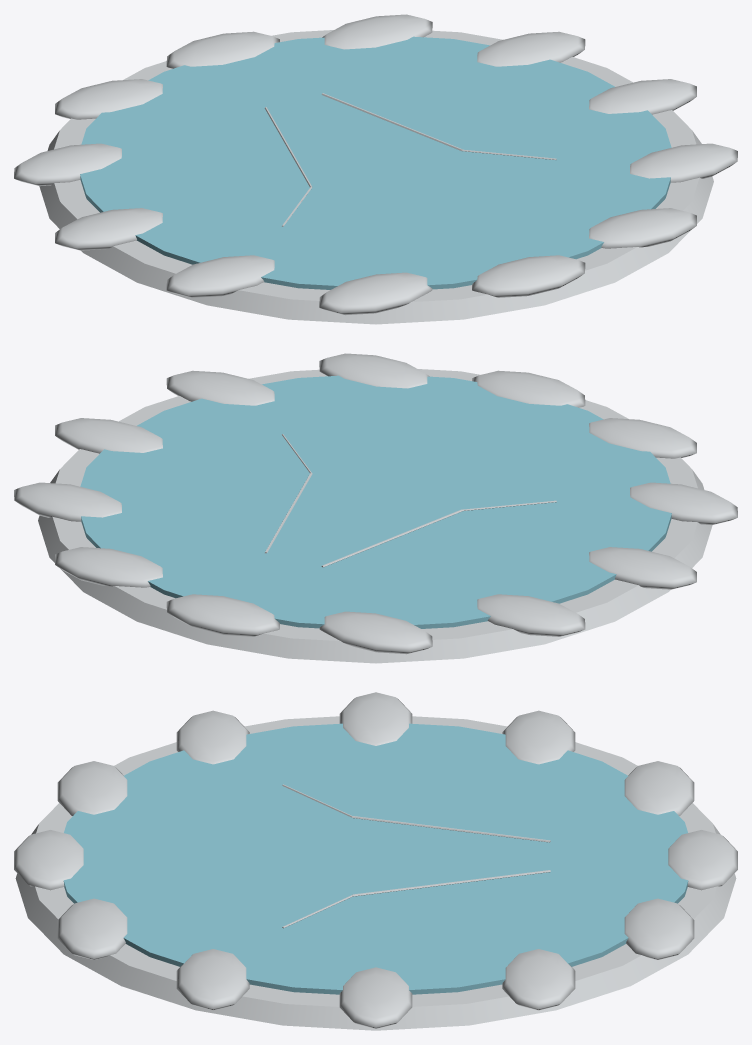
Rendered from alpine-snow-village-frozen-skating-pond-1eaf643e__19795.glb.
3 renders of one model, top to bottom at view 1: azimuth 30°, elevation 25°; view 2: azimuth 150°, elevation 25°; view 3: azimuth 270°, elevation 25°, orthographic. The views are drawn at different scales.
Visible parts, largest first — view 1: frozen-skating-pond-ice, frozen-skating-pond-snow; view 2: frozen-skating-pond-ice, frozen-skating-pond-snow; view 3: frozen-skating-pond-ice, frozen-skating-pond-snow.
Part boxes in pixels (box(x1,y1,x2,y2)): frozen-skating-pond-ice: box(80, 36, 671, 289); frozen-skating-pond-snow: box(14, 14, 737, 324); frozen-skating-pond-ice: box(80, 375, 671, 628); frozen-skating-pond-snow: box(14, 353, 737, 663); frozen-skating-pond-ice: box(63, 723, 688, 994); frozen-skating-pond-snow: box(14, 692, 737, 1030).
Size of the model in its own units: 6.8 by 0.2698 by 6.23.
